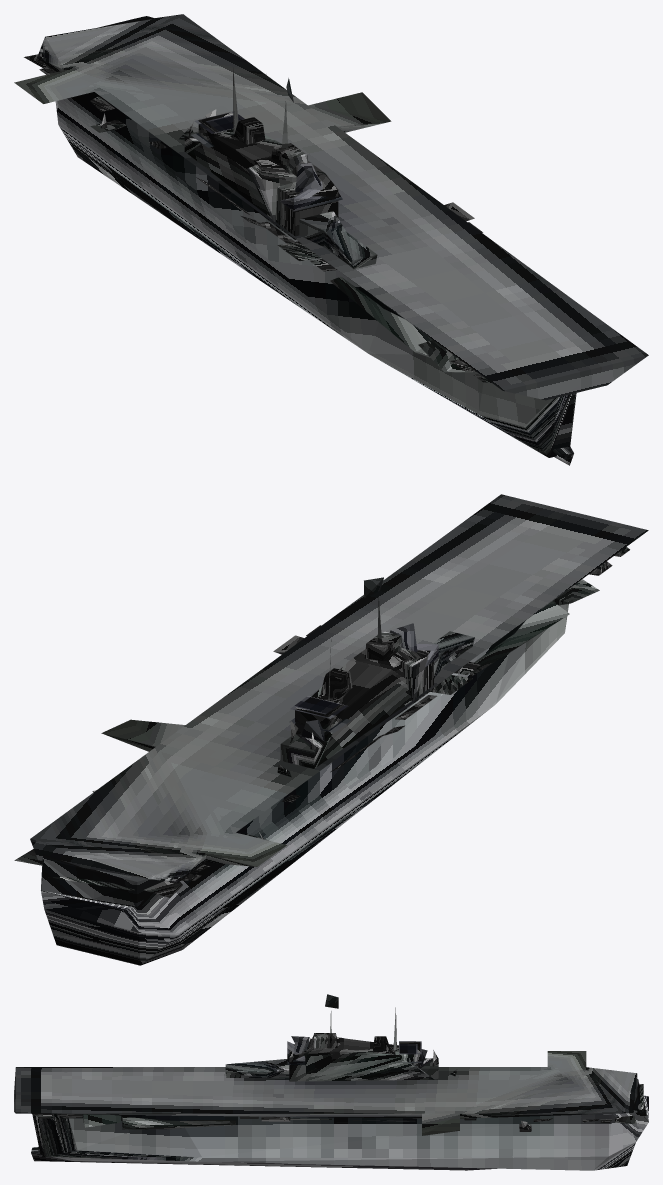
The picture shows the model from 3 angles, top to bottom: view 1: azimuth 30°, elevation 25°; view 2: azimuth 150°, elevation 25°; view 3: azimuth 270°, elevation 25°; orthographic projection. The views are drawn at different scales.
Parts seen in each view (by area): view 1: Object_2; view 2: Object_2; view 3: Object_2.
Boxes of the visible parts, x1,y1,x2,y2 form: Object_2: (14,14,648,465); Object_2: (14,494,648,965); Object_2: (14,994,648,1170).
Bounding box in the file's own units: 2.31 × 2.03 × 7.77.
Materials: 1 (1 with a texture image).
